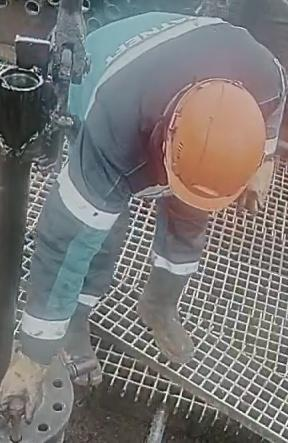gloves: (0, 351, 47, 440), (240, 156, 276, 223)
helmet: (160, 77, 266, 211)
vest: (66, 13, 287, 219)
